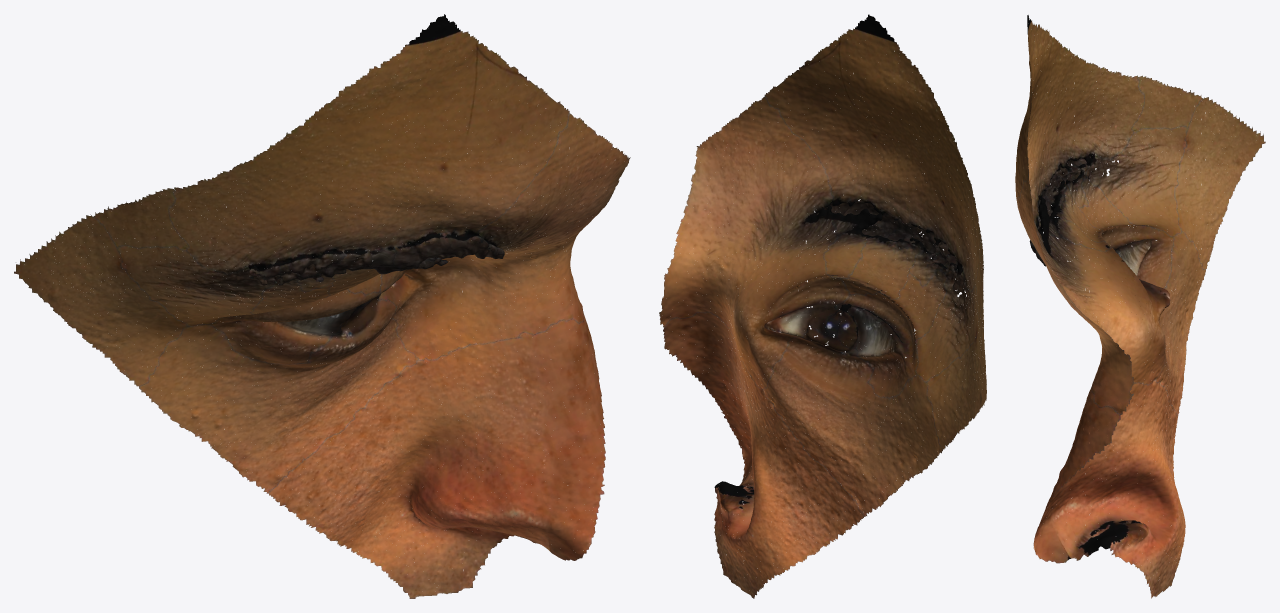
The model's file is 五官_裂纹眼部碎片01_opt.glb.
3 views of the same model, side by side, from view 1: azimuth 30°, elevation 25°; view 2: azimuth 150°, elevation 25°; view 3: azimuth 270°, elevation 25° (orthographic). The views are drawn at different scales.
Visible parts, largest first — view 1: material_0, material_0_2, material_0_1, material_0_3; view 2: material_0, material_0_2, material_0_1, material_0_3; view 3: material_0, material_0_2, material_0_1, material_0_3.
Boxes of the visible parts, x1=… form: material_0: x1=14, y1=183, x2=605, y2=598; material_0_2: x1=35, y1=14, x2=630, y2=311; material_0_1: x1=20, y1=189, x2=605, y2=594; material_0_3: x1=37, y1=16, x2=626, y2=311; material_0: x1=659, y1=217, x2=986, y2=598; material_0_2: x1=673, y1=14, x2=985, y2=392; material_0_1: x1=661, y1=230, x2=986, y2=594; material_0_3: x1=675, y1=16, x2=985, y2=389; material_0: x1=1033, y1=75, x2=1265, y2=598; material_0_2: x1=1015, y1=15, x2=1249, y2=340; material_0_1: x1=1034, y1=78, x2=1260, y2=595; material_0_3: x1=1016, y1=20, x2=1243, y2=340.
Bounding box in the file's own units: 0.2305 × 0.3 × 0.124.
Materials: 1 (1 with a texture image).
